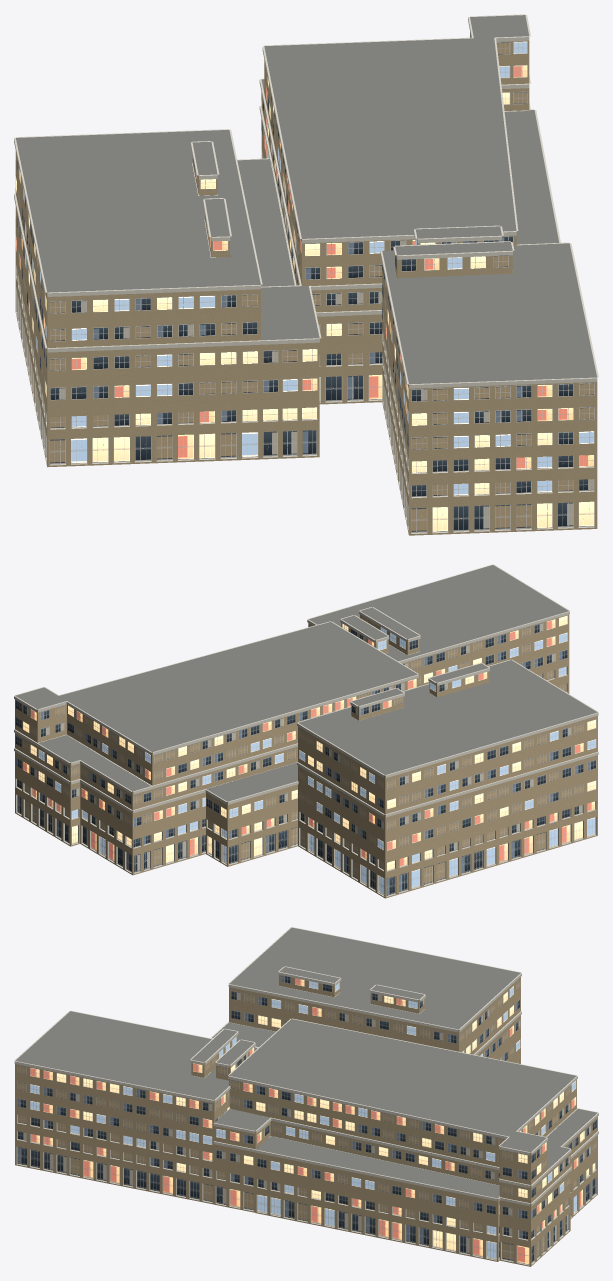
File: technopark.glb
3 views of the same model, one above another, from view 1: azimuth 30°, elevation 25°; view 2: azimuth 150°, elevation 25°; view 3: azimuth 270°, elevation 25° (orthographic). The views are drawn at different scales.
Visible parts, largest first — view 1: technopark; view 2: technopark; view 3: technopark.
Boxes of the visible parts, left/top/right/bottom form: technopark: left=14, top=14, right=598, bottom=535; technopark: left=14, top=564, right=598, bottom=898; technopark: left=14, top=927, right=598, bottom=1266.
Size of the model in its own units: 92.5 by 26.35 by 104.
3 materials, 3 textured.
